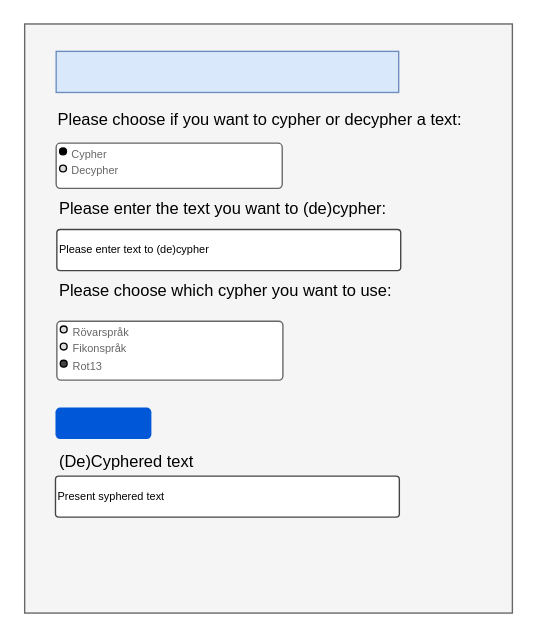
Some shapes in this 536 by 637 pixel diagram are drawn without their labels. The shapes that lost their labels are listed below. From the top down, each one's centre as x and y in pixels, then its label:
(227,71): Welcome to the Cypher page
(103,422): (De)Cypher
